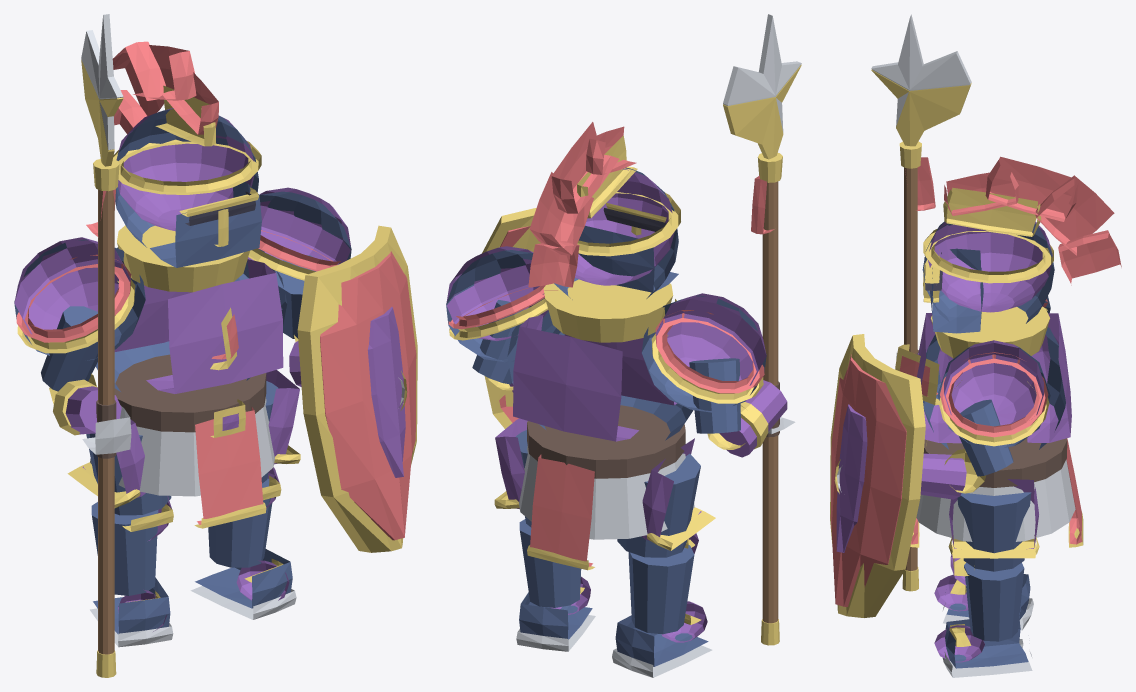
The model's file is guardia_real.glb.
3 renders of one model, left to right at view 1: azimuth 30°, elevation 25°; view 2: azimuth 150°, elevation 25°; view 3: azimuth 270°, elevation 25°, orthographic. The views are drawn at different scales.
Visible parts, largest first — view 1: GuardiaReal; view 2: GuardiaReal; view 3: GuardiaReal.
Boxes of the visible parts, <box> form: GuardiaReal: <box>14,14,417,677</box>; GuardiaReal: <box>446,14,801,677</box>; GuardiaReal: <box>830,14,1121,677</box>.
Bounding box in the file's own units: 0.9583 × 1.75 × 0.8063.
